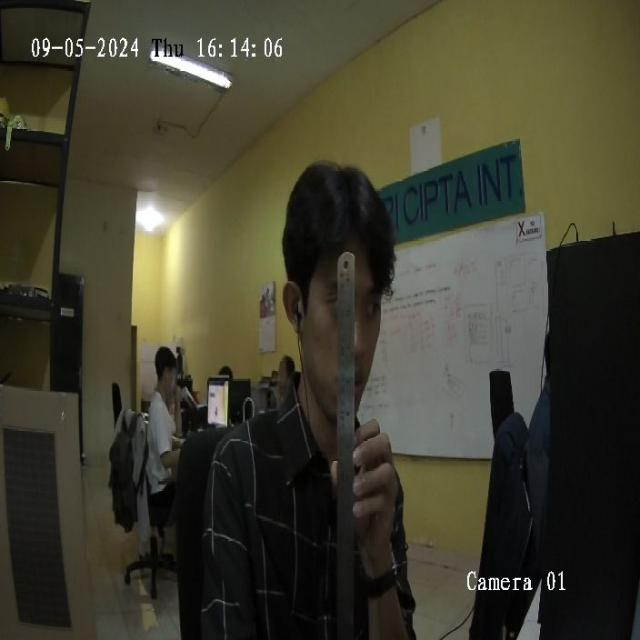Ruler: (337, 254, 355, 639)
